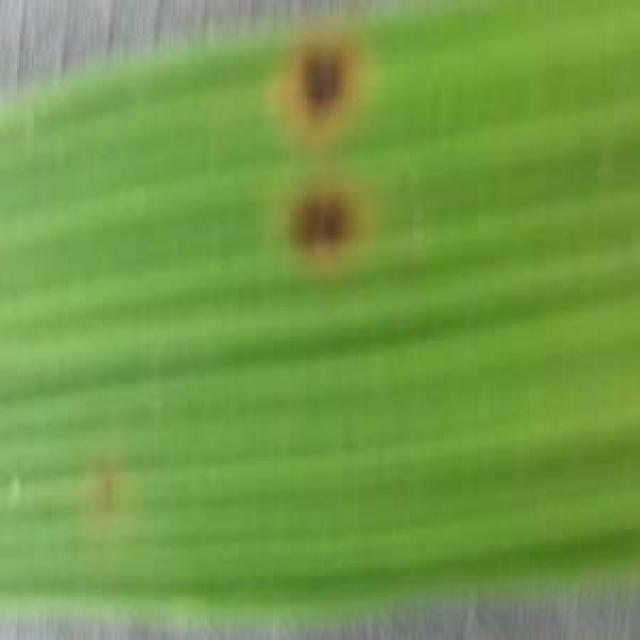Brown_Spot: (266, 31, 378, 145), (276, 176, 382, 279)
